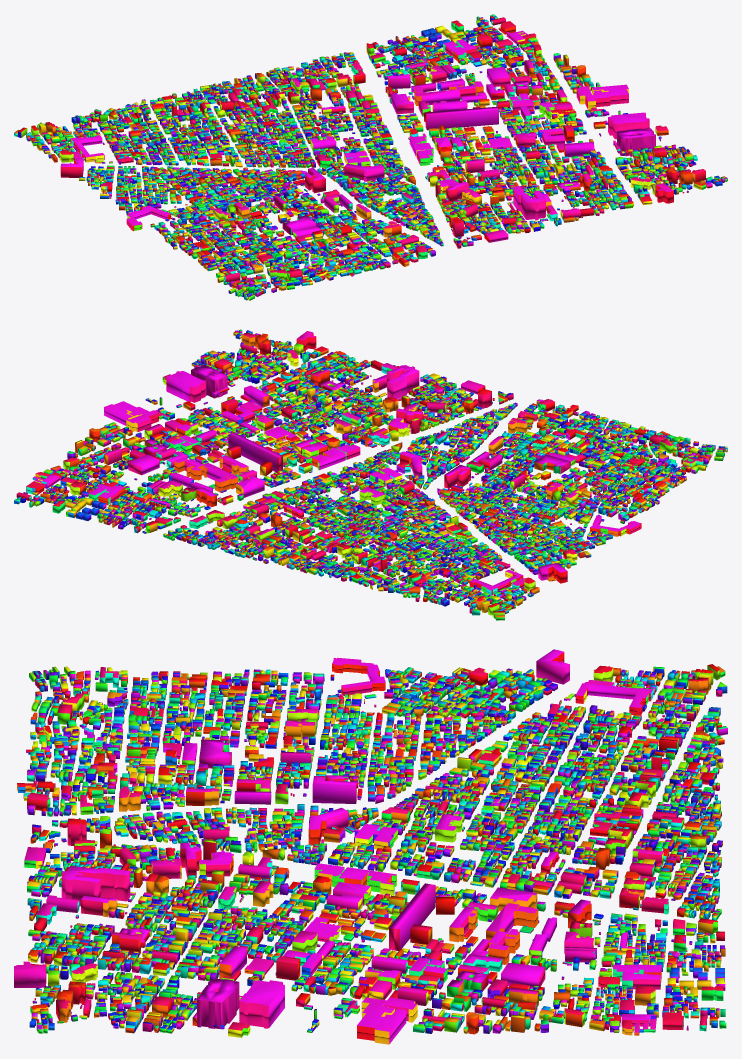
The picture shows the model from 3 angles, top to bottom: view 1: azimuth 30°, elevation 25°; view 2: azimuth 150°, elevation 25°; view 3: azimuth 270°, elevation 25°; orthographic projection. The views are drawn at different scales.
Parts seen in each view (by area): view 1: BLD_3033c830-0bd0-4814-ad36-4cb116b56f88; view 2: BLD_3033c830-0bd0-4814-ad36-4cb116b56f88; view 3: BLD_3033c830-0bd0-4814-ad36-4cb116b56f88.
Part boxes in pixels (box(x1,y1,x2,y2)): BLD_3033c830-0bd0-4814-ad36-4cb116b56f88: box(14, 14, 727, 300); BLD_3033c830-0bd0-4814-ad36-4cb116b56f88: box(14, 329, 727, 620); BLD_3033c830-0bd0-4814-ad36-4cb116b56f88: box(14, 649, 727, 1044).
Bounding box in the file's own units: 1202 × 50.29 × 958.
